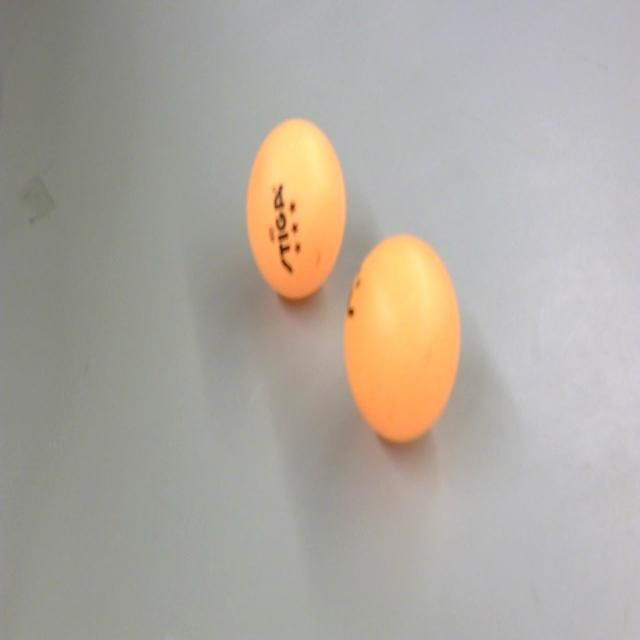ball: (342, 228, 462, 447), (243, 111, 349, 304)
